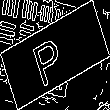P_NW: (35, 24, 75, 86)
